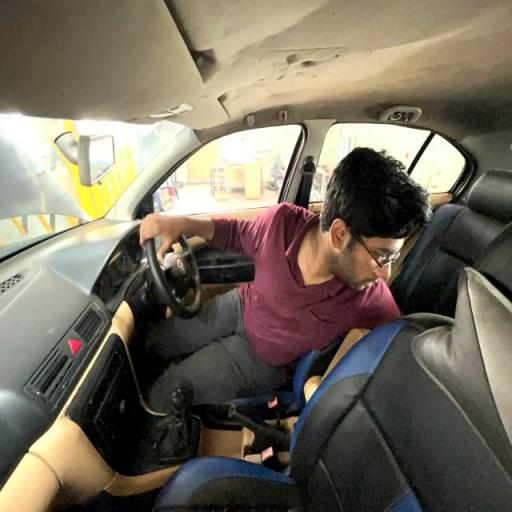Reaching_behind: (143, 143, 435, 381)
